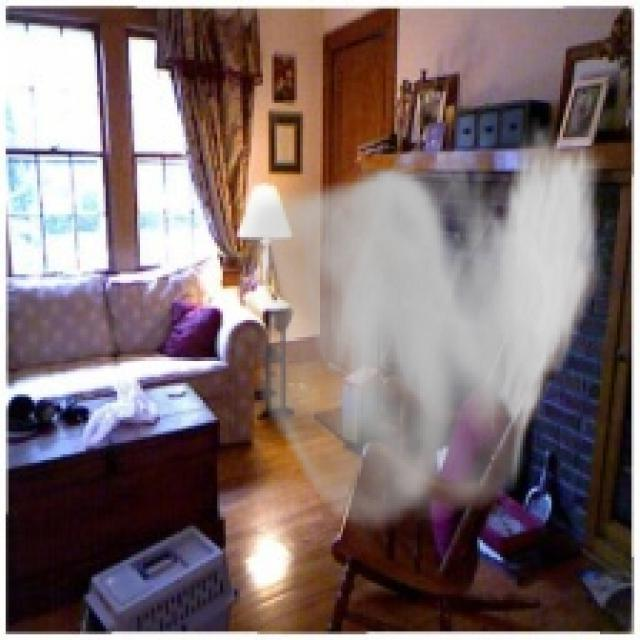Smoke: (243, 117, 606, 543)
